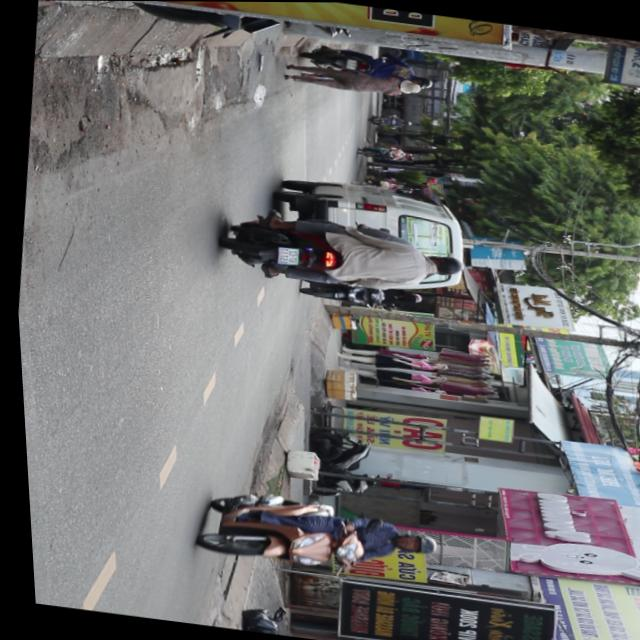helmet: (389, 531, 432, 557), (422, 254, 461, 277)
licenseplate: (183, 482, 437, 587), (212, 206, 466, 304)
nohelmet: (274, 247, 297, 266)
